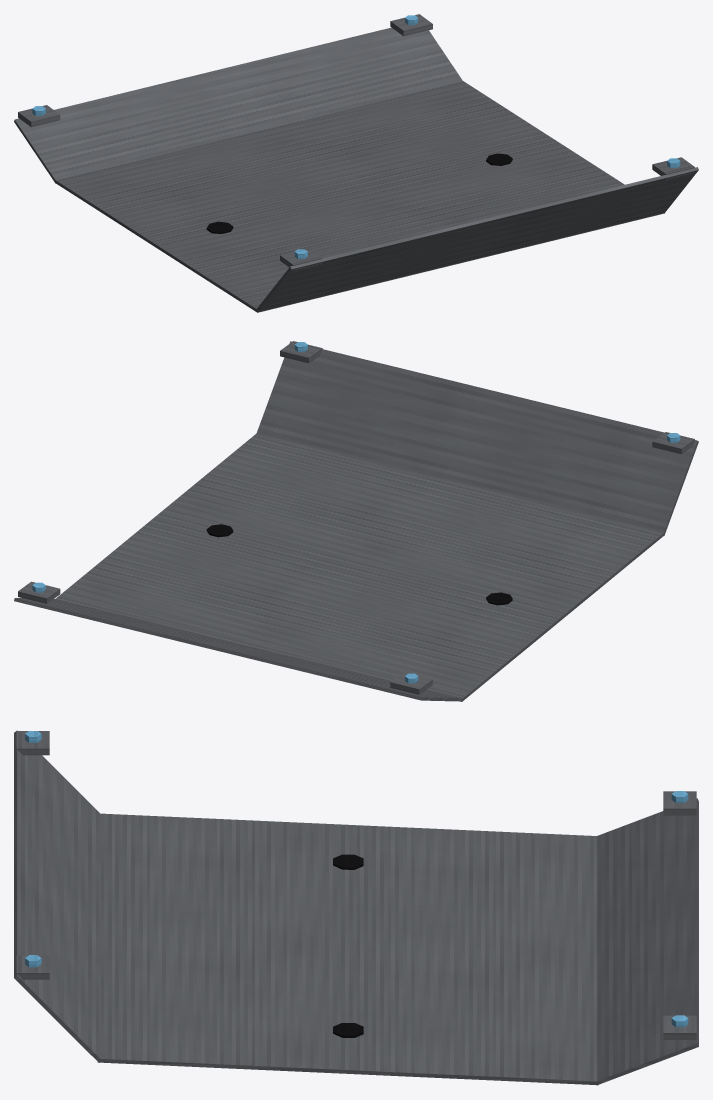
The model's file is protetor_n1.glb.
The picture shows the model from 3 angles, top to bottom: view 1: azimuth 30°, elevation 25°; view 2: azimuth 150°, elevation 25°; view 3: azimuth 270°, elevation 25°; orthographic projection. The views are drawn at different scales.
Parts seen in each view (by area): view 1: protetor_n1; view 2: protetor_n1; view 3: protetor_n1.
Boxes of the visible parts, <box> form: protetor_n1: <box>14,14,698,312</box>; protetor_n1: <box>14,341,698,701</box>; protetor_n1: <box>14,730,698,1085</box>.
Bounding box in the file's own units: 0.7 × 0.1556 × 0.826.
Materials: 1 (1 with a texture image).
